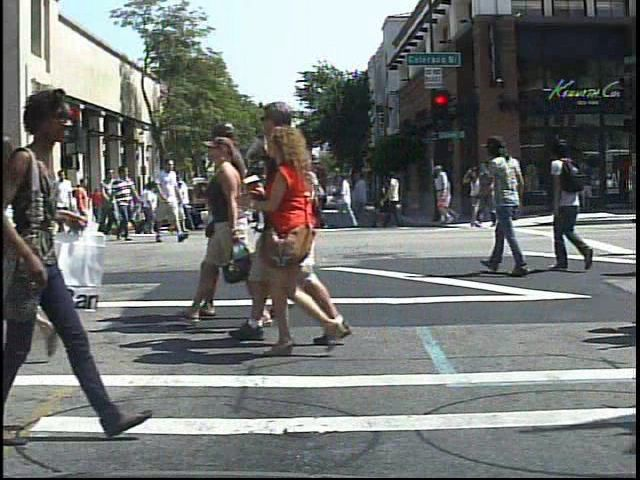person: (1, 77, 102, 451), (236, 92, 358, 345), (252, 118, 359, 357), (543, 132, 606, 278), (482, 127, 535, 281), (151, 157, 190, 247), (109, 161, 138, 244), (49, 166, 79, 245), (95, 164, 122, 242), (432, 160, 457, 225), (26, 183, 50, 244), (90, 183, 110, 222)
